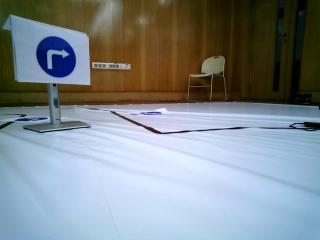right: (17, 20, 95, 83)
